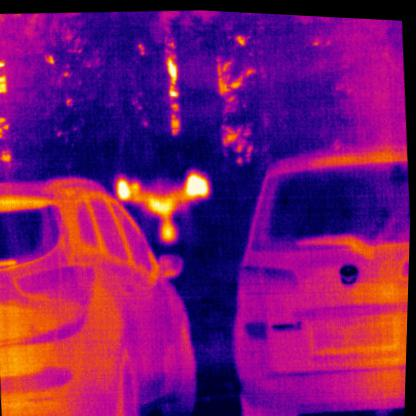drone: (111, 162, 217, 247)
vehicle: (219, 134, 413, 415)
